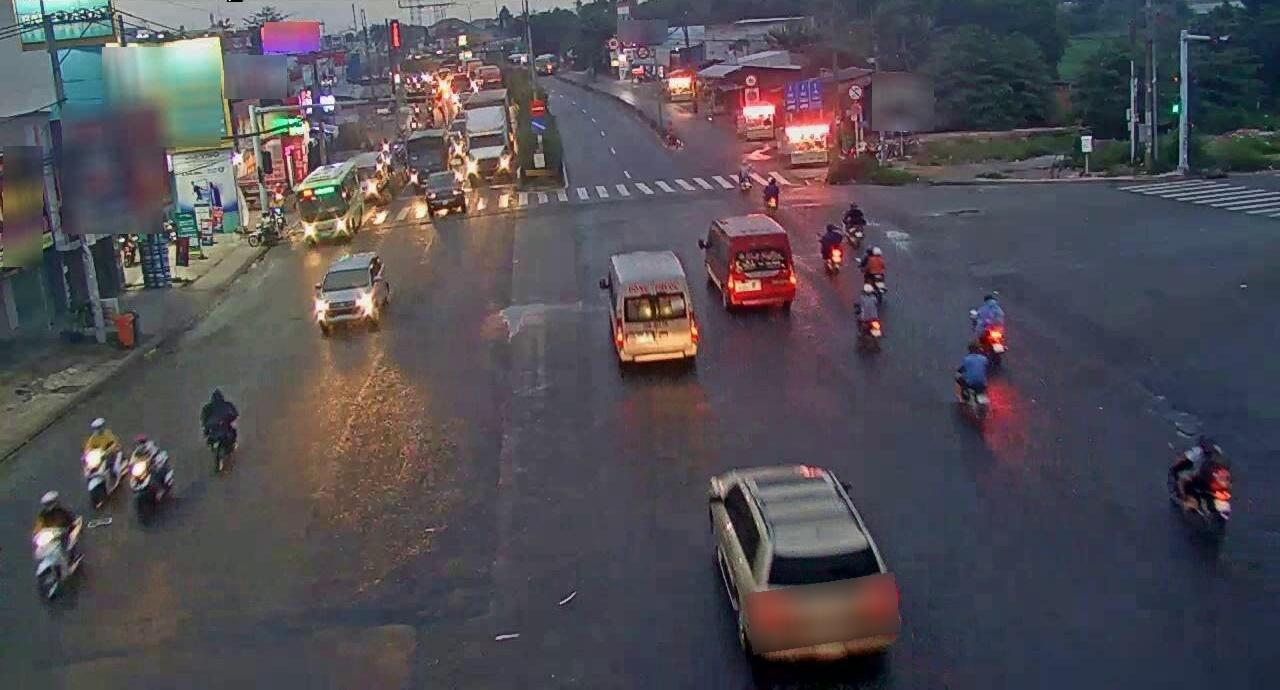xe hoi: (706, 461, 905, 669), (311, 250, 386, 334)
xe may: (1170, 436, 1235, 545), (27, 485, 86, 597), (80, 425, 128, 519), (198, 381, 243, 464), (966, 293, 1014, 367), (203, 388, 241, 476), (128, 435, 169, 516), (953, 344, 993, 426), (850, 284, 886, 351), (858, 240, 891, 301), (815, 219, 844, 276)
xe van: (604, 246, 707, 380), (706, 210, 805, 318)
